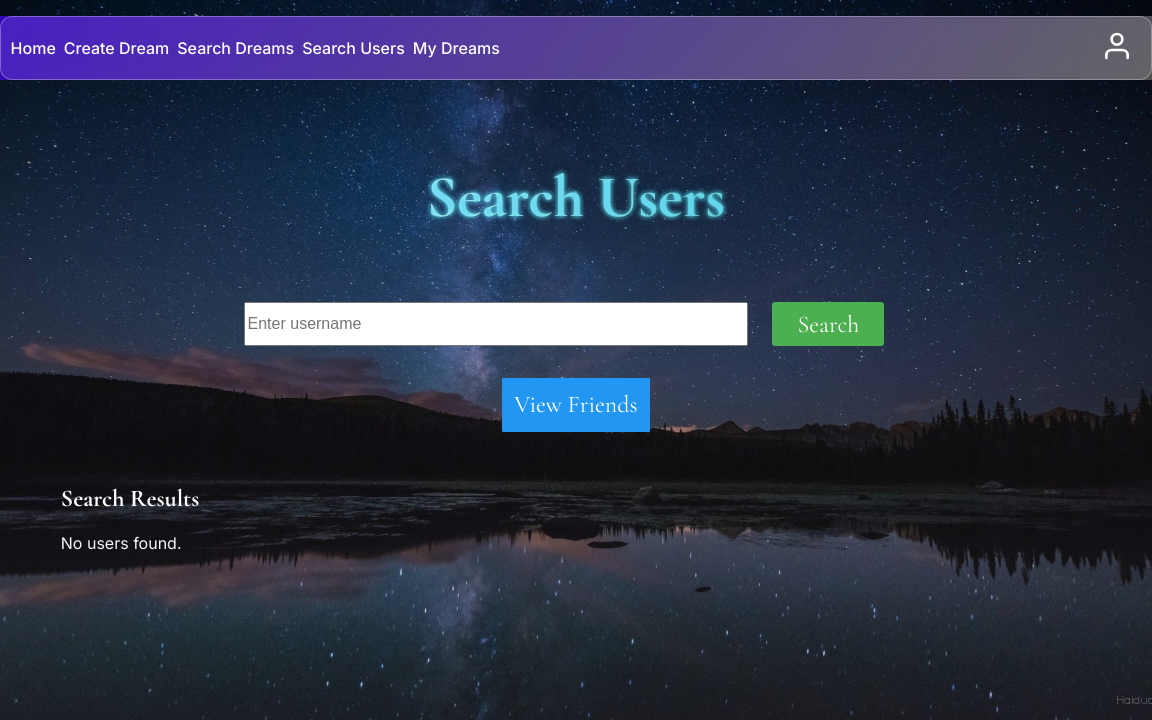
Test: SearchUsers › shows friends if user has friends
Click the button "View Friends".
click(576, 405)  # box [502,378,650,432]
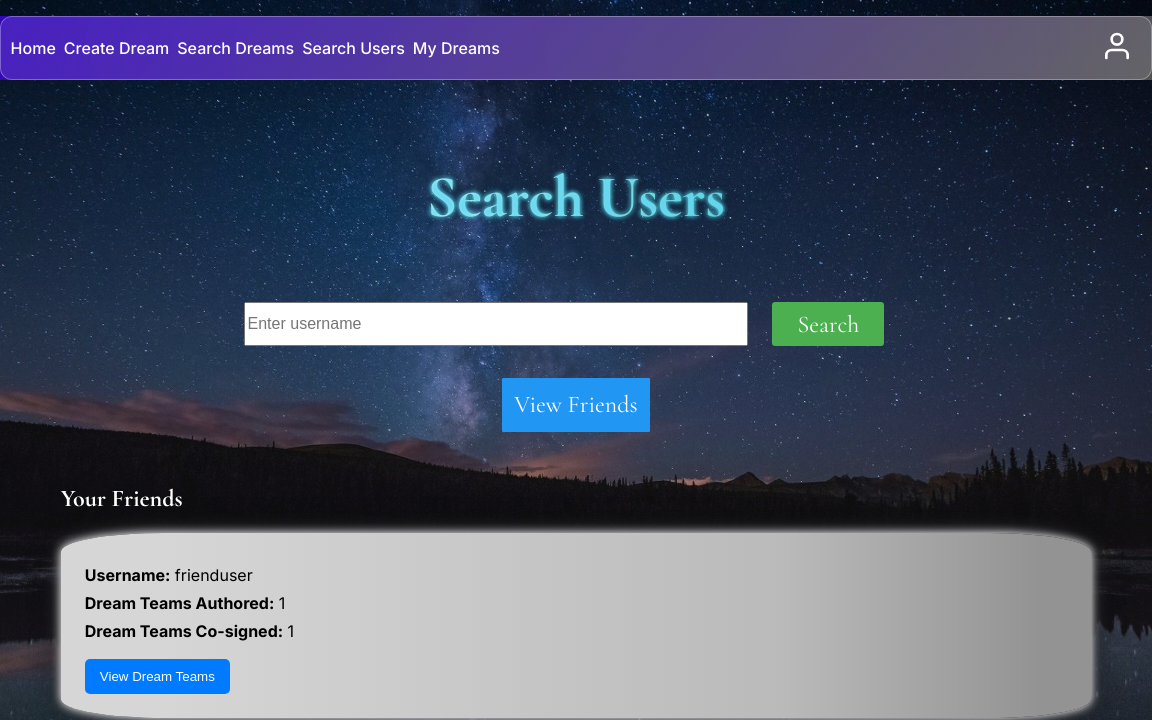
Now the heading "Your Friends" is shown, box [61,484,182,513]
Now the text "Username:" is shown, box [85,565,170,585]
Now the text "Username: frienduser" is shown, box [85,565,253,585]
